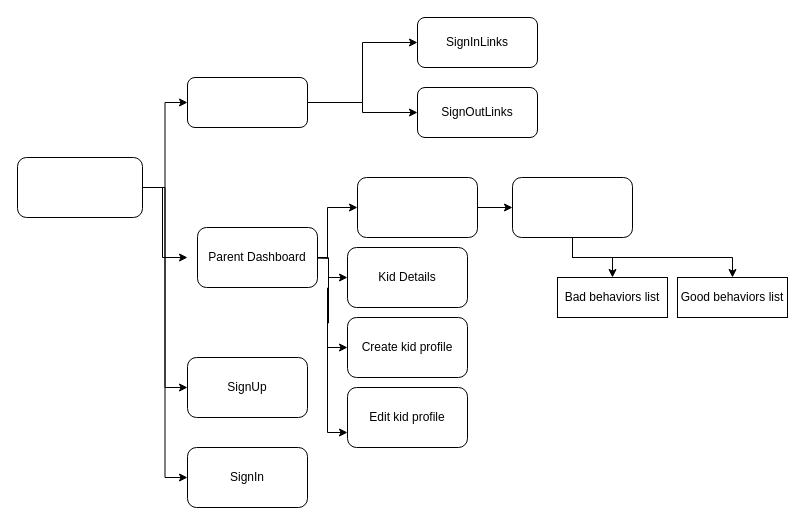
Some shapes in this 805 by 525 pixel diagram are drawn without their labels. The box of each missing label's shape, as (x1, y1, x2, y2) in pixels:
App: (16, 156, 142, 218)
Kid: (512, 176, 632, 238)
Kid List: (356, 176, 478, 238)
Navbar: (186, 76, 308, 128)
